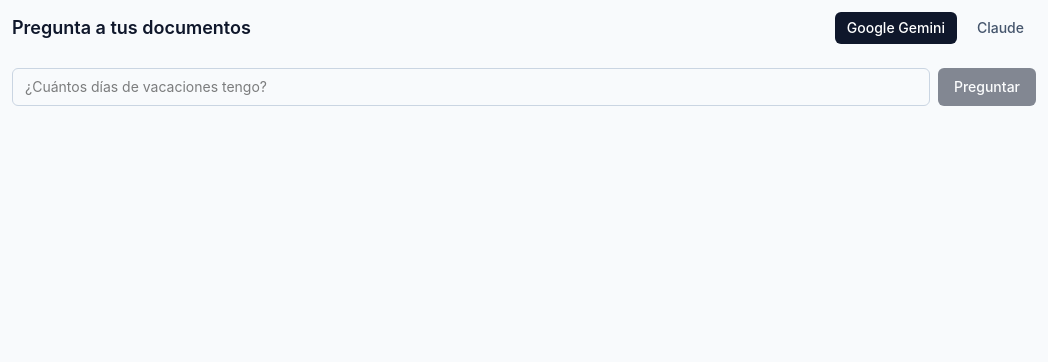
Test case: AskPage › sends the selected provider and shows the Claude badge after toggling
Click the button "Claude".
click(1000, 28)  # box [965,12,1036,44]
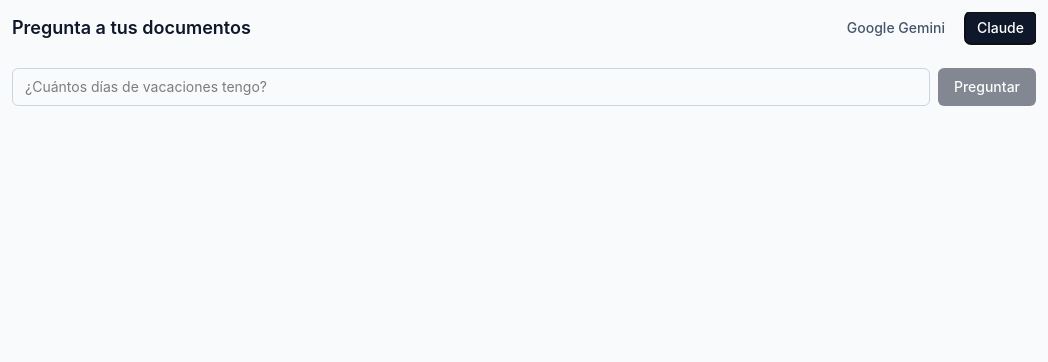
Type "algo" into the field with placeholder "¿Cuántos días de vacaciones tengo?".
click(471, 87); type("algo")  # box [12,68,930,106]
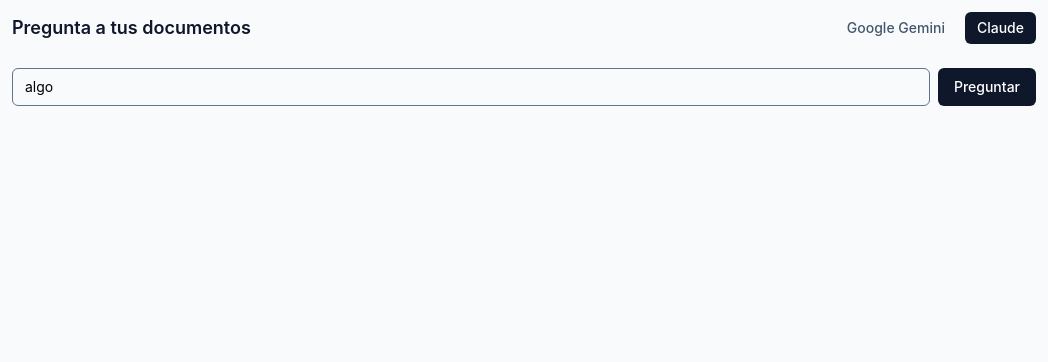
Click the button "Preguntar".
click(987, 87)  # box [938,68,1036,106]
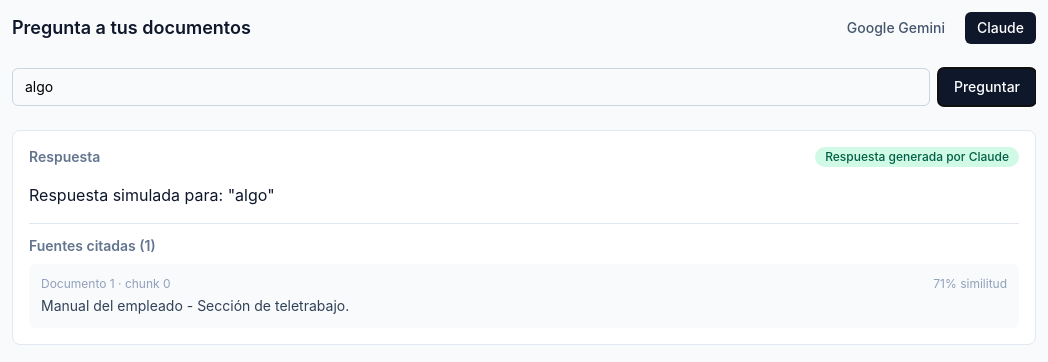
Now the text "Respuesta generada por Claude" is shown, box [815,147,1019,167]
